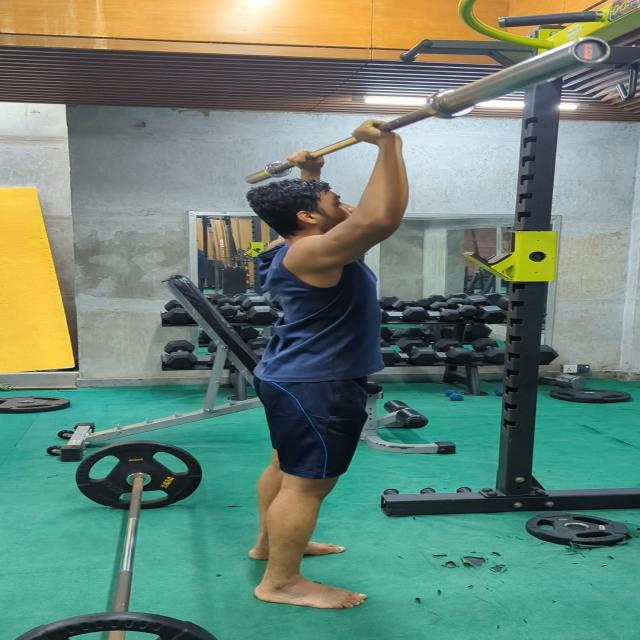Normal_OverheadPress: (216, 114, 424, 624)
